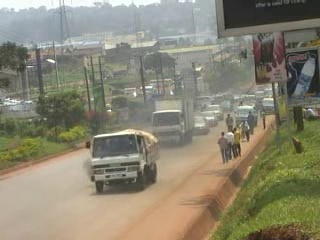Car: (201, 107, 218, 131), (194, 114, 211, 137), (207, 102, 224, 121), (220, 98, 235, 116), (232, 92, 241, 103)
